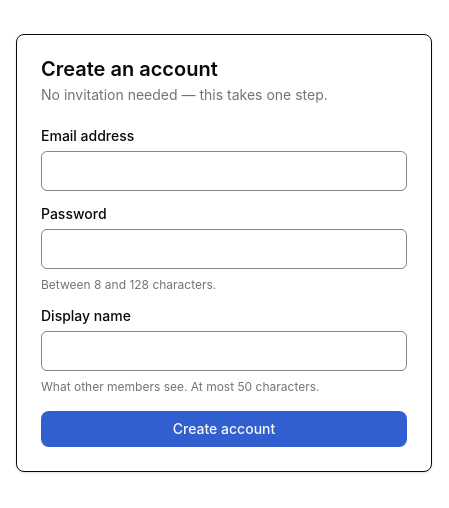
when a submitted value is not usable › shows the address refusal and keeps everything typed
Type "someone@example.test" into the field labelled "Email address".
click(224, 171); type("someone@example.test")  # box [41,151,407,191]
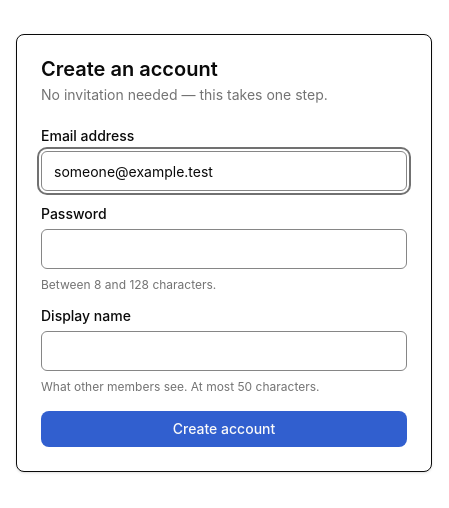
Type "a-long-enough-password" into the password field labelled "Password".
click(224, 249); type("a-long-enough-password")  # box [41,229,407,269]
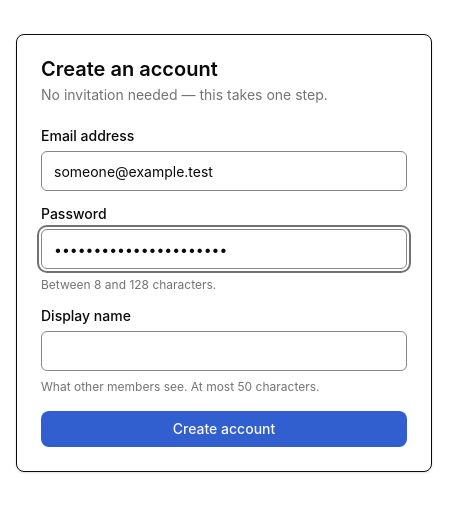
Type "Someone Real" into the field labelled "Display name".
click(224, 351); type("Someone Real")  # box [41,331,407,371]
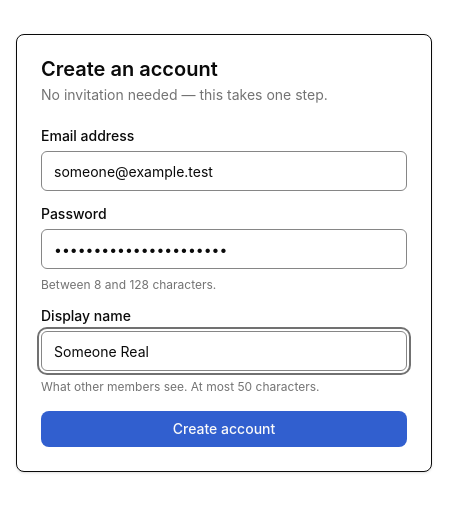
Click the button "Create account".
click(224, 429)  # box [41,411,407,447]
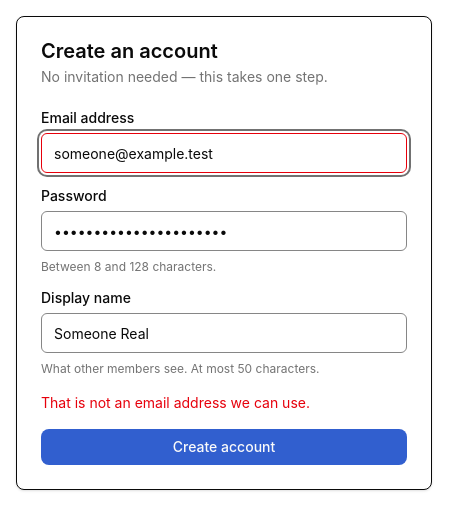
Result: the message reads "That is not an email address we can use." at [41,394,310,411]
